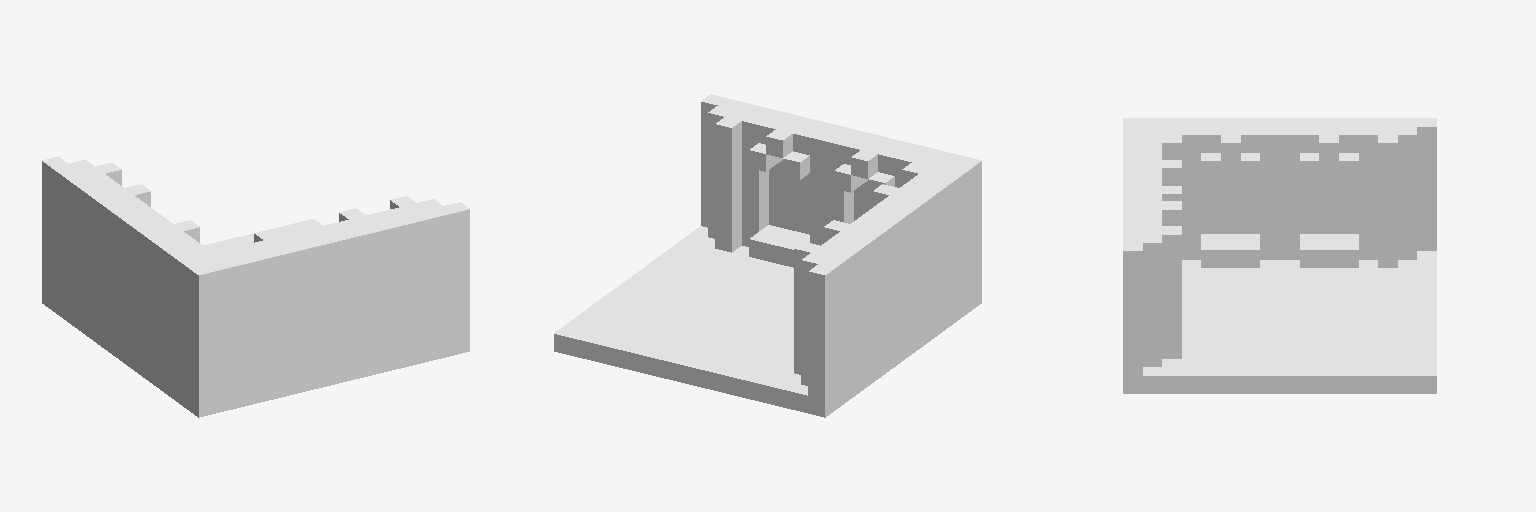
The model's file is towar-11.obj.
The picture shows the model from 3 angles: view 1: azimuth 30°, elevation 25°; view 2: azimuth 150°, elevation 25°; view 3: azimuth 270°, elevation 25°; orthographic projection.
Visible parts, largest first — view 1: towar-11; view 2: towar-11; view 3: towar-11.
Boxes of the visible parts, <box> form: towar-11: <box>42,156,469,417</box>; towar-11: <box>554,94,981,417</box>; towar-11: <box>1123,118,1436,393</box>.
Size of the model in its own units: 16 by 8 by 16.